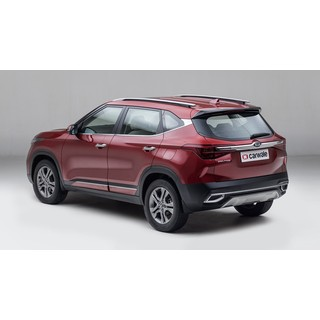car: (24, 96, 301, 232)
